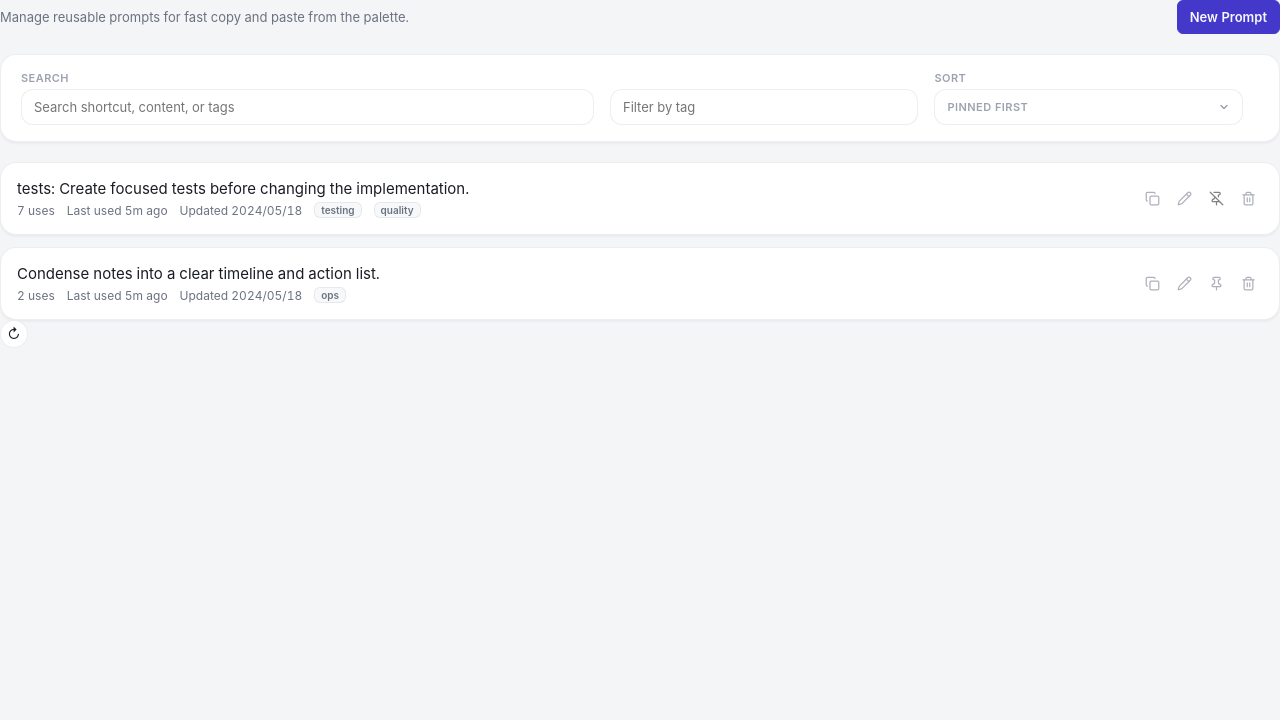
Test case: PromptPalettePage › blocks same-row edit while pin is in flight but keeps other rows editable
Expected: the heading "tests: Create focused tests" is shown, [17,179,469,198]
Click the button named "Unpin".
click(1216, 198)  # box [1201,184,1231,214]
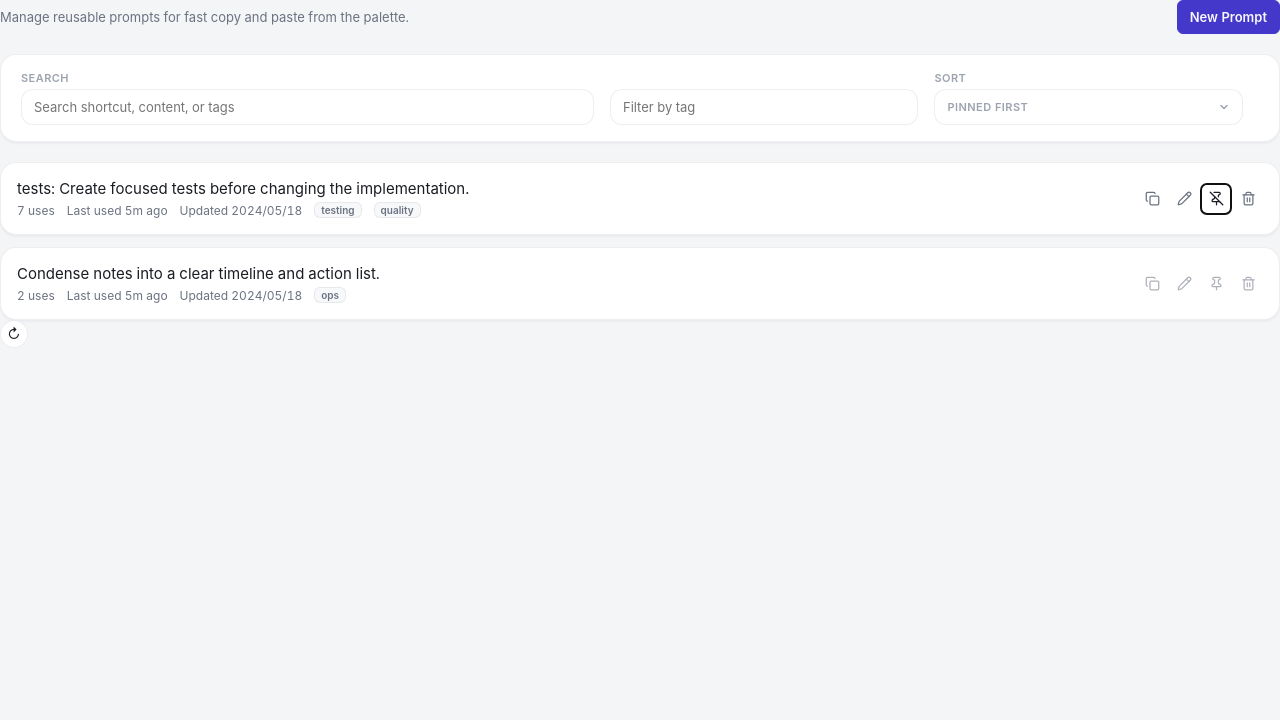
Click the button named "Edit" in the row of "quality".
click(1184, 198)  # box [1169,184,1199,214]
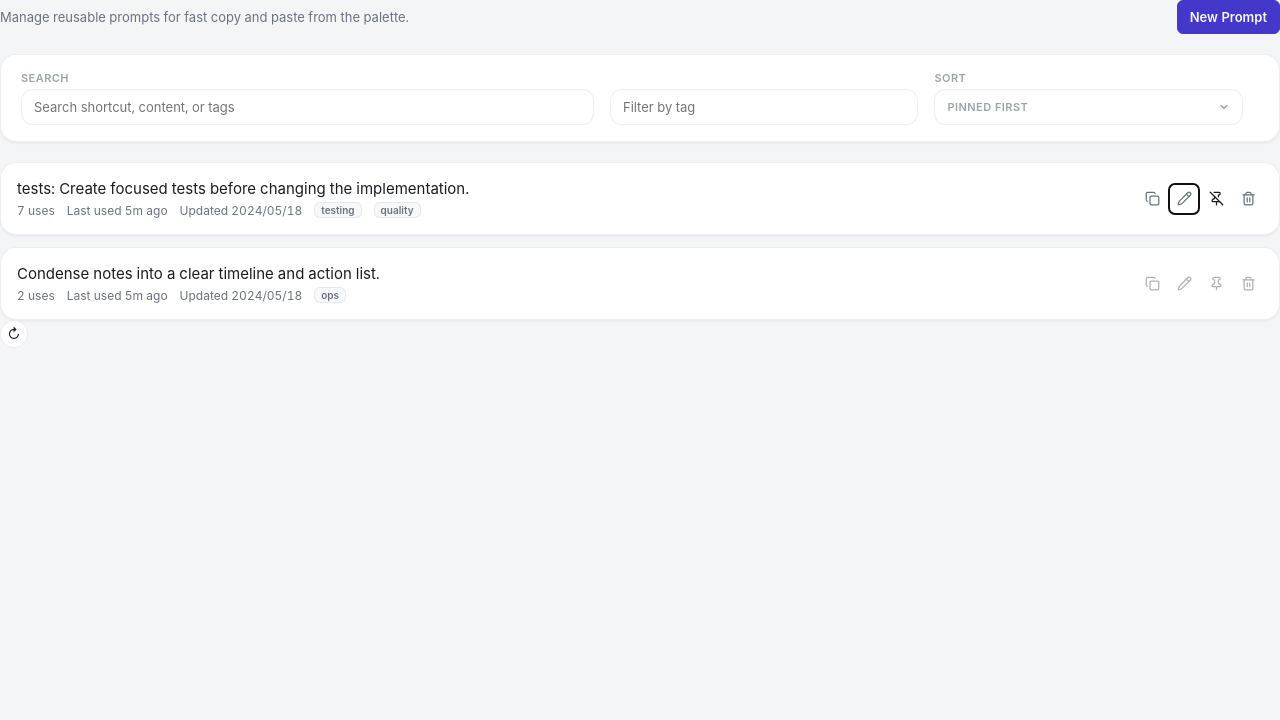
Expected: the dialog "Edit Prompt" is not shown
Click the button named "Edit" in the row of "ops".
click(1184, 284)  # box [1169,268,1199,298]
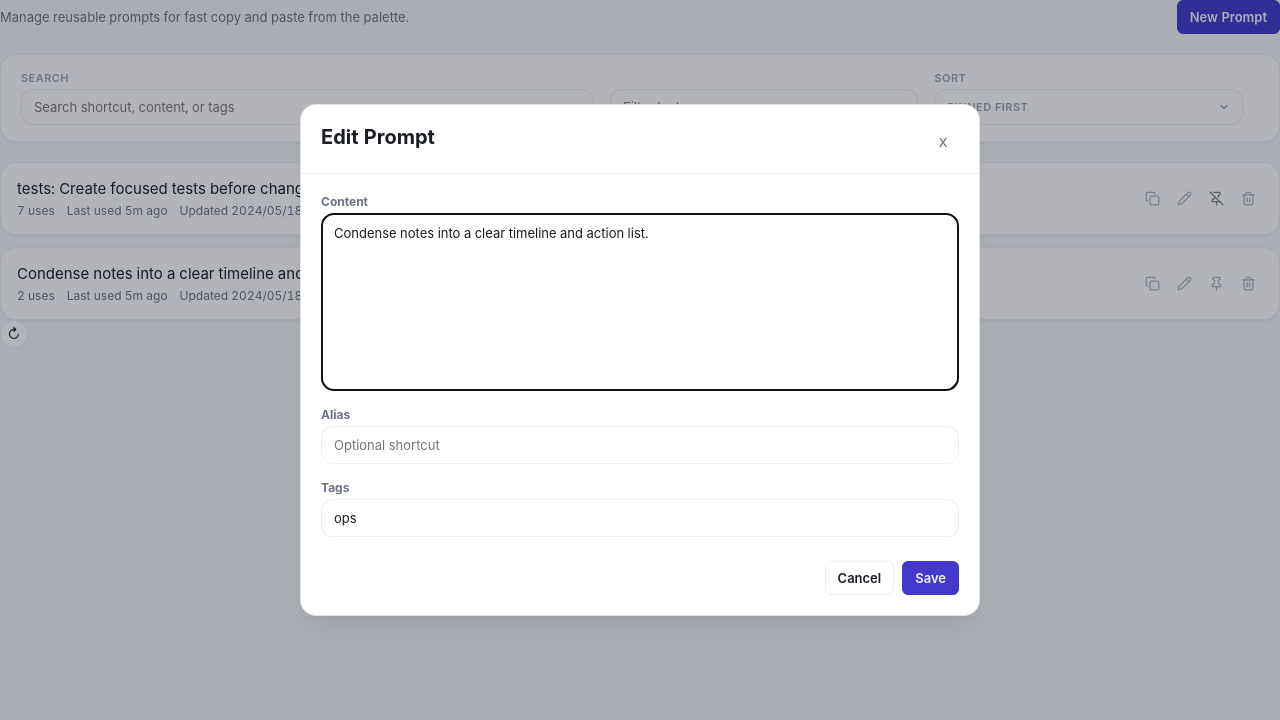
Expected: the dialog "Edit Prompt" is shown, [300,104,980,616]
